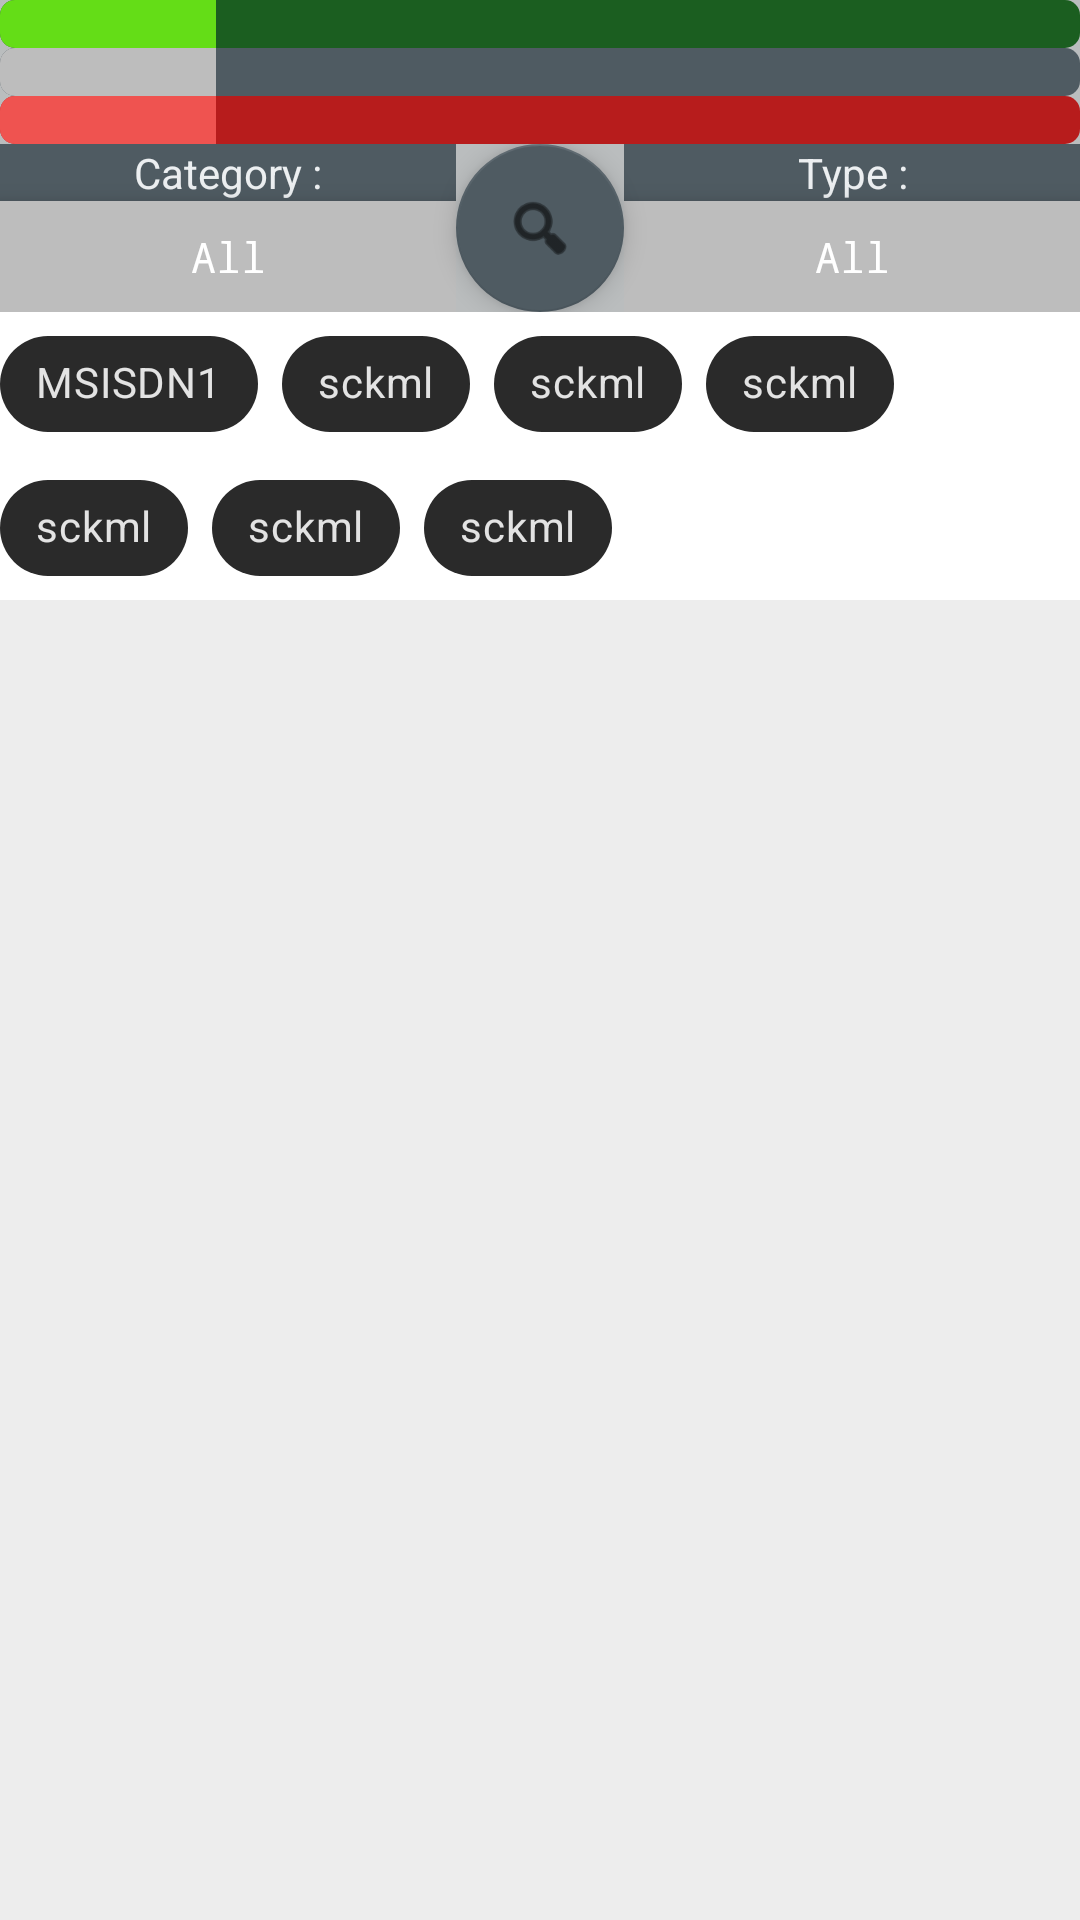

Named icons in this screenshot (1080 × 1920) and their centers, [x,y]:
search: [540,228]
